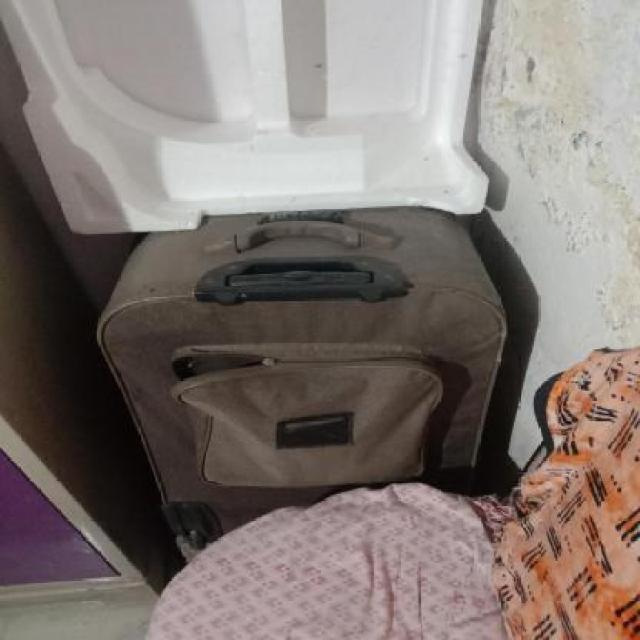backpack: (95, 205, 512, 569)
